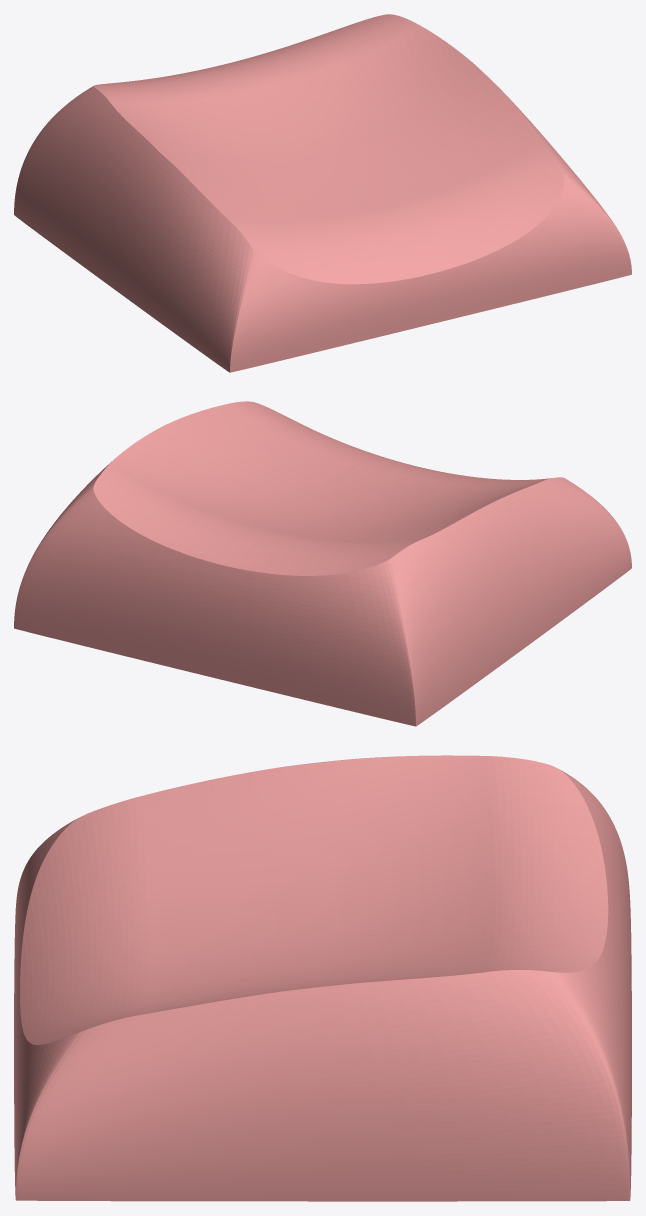
The model's file is MX-Chicago-Steno-R2.gltf.
3 views of the same model, one above another, from view 1: azimuth 30°, elevation 25°; view 2: azimuth 150°, elevation 25°; view 3: azimuth 270°, elevation 25° (orthographic). The views are drawn at different scales.
Visible parts, largest first — view 1: object 1; view 2: object 1; view 3: object 1.
Boxes of the visible parts, bbox=[...] form: object 1: bbox=[14, 14, 631, 372]; object 1: bbox=[14, 401, 631, 726]; object 1: bbox=[14, 755, 631, 1201].
Bounding box in the file's own units: 1.73 × 0.678 × 1.61.
